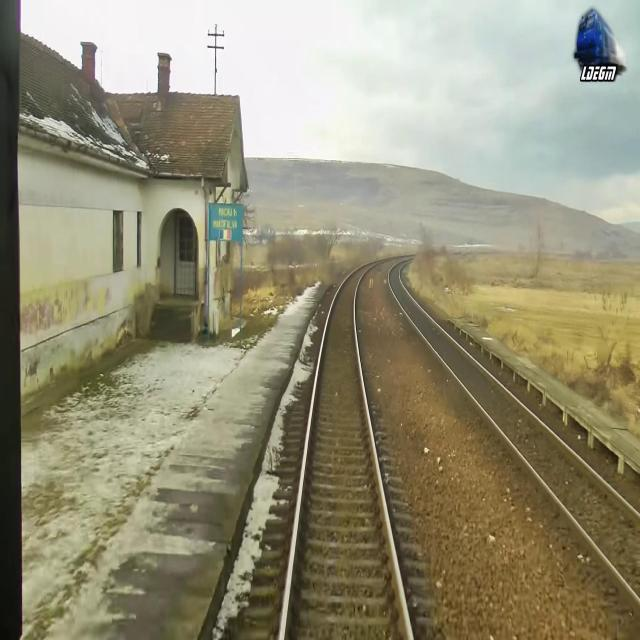rail-track: (389, 260, 640, 596), (284, 263, 408, 639)
